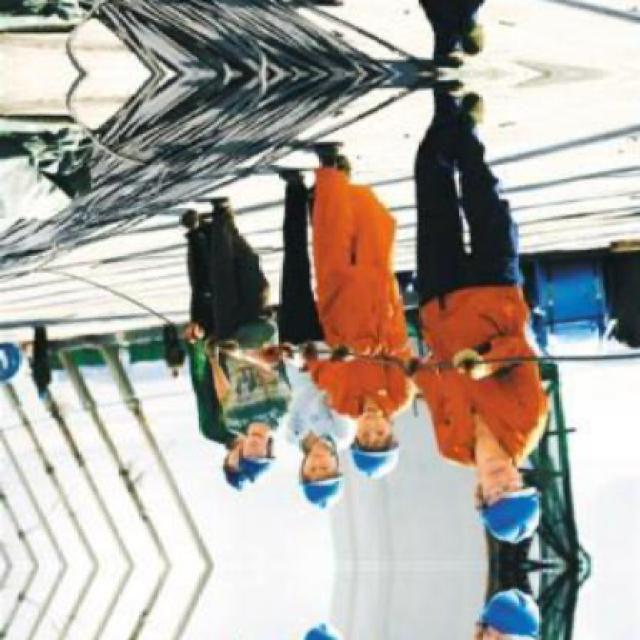con casco: (469, 440, 563, 560), (319, 393, 432, 475), (270, 448, 342, 522), (206, 425, 266, 508), (241, 424, 297, 491)
